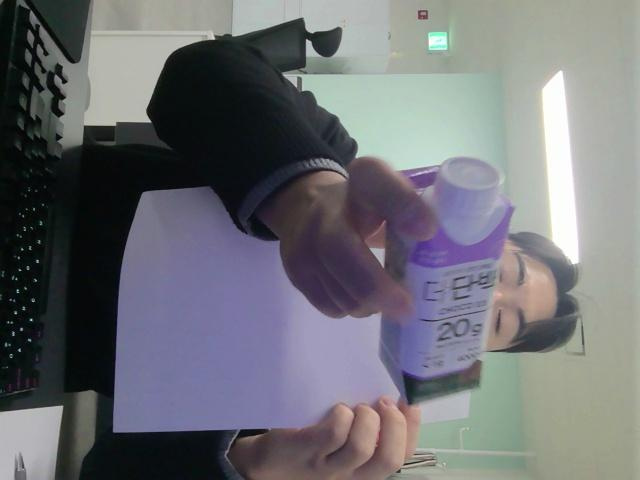milk: (379, 158, 513, 403)
